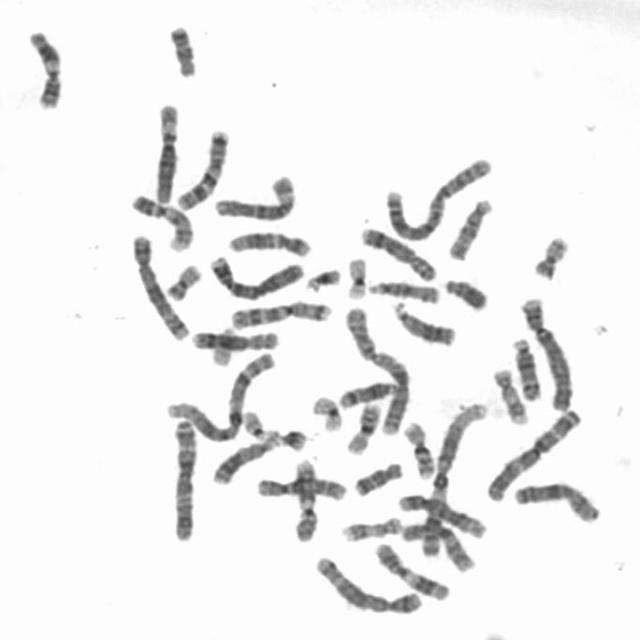A1: (414, 395, 490, 559), (159, 344, 278, 444)
A2: (379, 149, 496, 242), (338, 300, 412, 436)
A3: (479, 401, 585, 503), (164, 412, 200, 542)
B4: (514, 289, 576, 413), (203, 248, 306, 302)
B5: (308, 548, 425, 616), (124, 227, 191, 342)
C10: (397, 516, 478, 574), (251, 470, 350, 503)
C11: (368, 536, 454, 602), (21, 22, 66, 112)
C12: (391, 486, 489, 540), (221, 224, 313, 258)
C6: (207, 168, 298, 222), (147, 96, 181, 206)
C7: (169, 122, 232, 211), (224, 293, 334, 330)
C8: (354, 220, 439, 282), (185, 322, 282, 353)
C9: (124, 187, 196, 252), (286, 452, 321, 543)
D13: (206, 430, 280, 486), (388, 294, 458, 348)
D14: (505, 330, 545, 402), (333, 374, 403, 410)
D15: (442, 191, 496, 261), (361, 273, 442, 304)
E16: (397, 415, 438, 480), (341, 396, 384, 456)
E17: (486, 361, 532, 426), (335, 509, 405, 543)
E18: (348, 455, 405, 497), (163, 17, 200, 79)
F19: (305, 388, 345, 434), (340, 250, 370, 300)
F20: (526, 228, 572, 280), (159, 256, 204, 302)
G21: (298, 260, 344, 293), (272, 421, 309, 453)
G22: (206, 320, 238, 368), (237, 404, 272, 442)
X: (507, 475, 604, 524)
Y: (438, 270, 490, 312)
